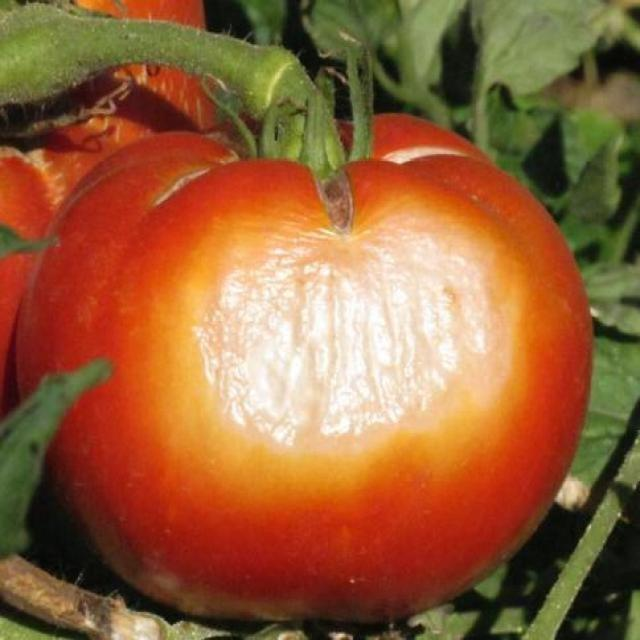Sunscald Fruit: (108, 137, 332, 325)
